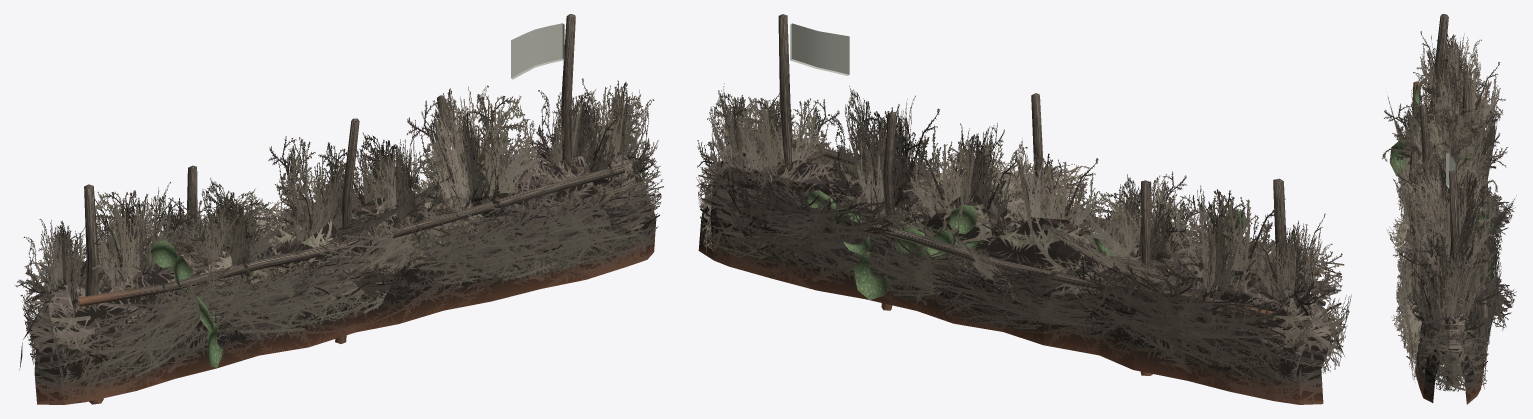
File: palissade_a.glb
3 views of the same model, side by side, from view 1: azimuth 30°, elevation 25°; view 2: azimuth 150°, elevation 25°; view 3: azimuth 270°, elevation 25° (orthographic). The views are drawn at different scales.
Visible parts, largest first — view 1: Palissade_a, Banniere; view 2: Palissade_a, Banniere; view 3: Palissade_a, Banniere.
Part boxes in pixels (left/top/right/bottom): Palissade_a: left=15, top=14, right=663, bottom=404; Banniere: left=511, top=23, right=564, bottom=79; Palissade_a: left=696, top=14, right=1351, bottom=404; Banniere: left=790, top=23, right=849, bottom=75; Palissade_a: left=1381, top=14, right=1516, bottom=404; Banniere: left=1446, top=153, right=1455, bottom=188.
Size of the model in its own units: 4.71 by 1.83 by 1.06.
2 materials, 2 textured.
